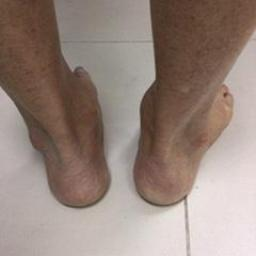Back View -Both Feet-: (10, 49, 242, 223)
